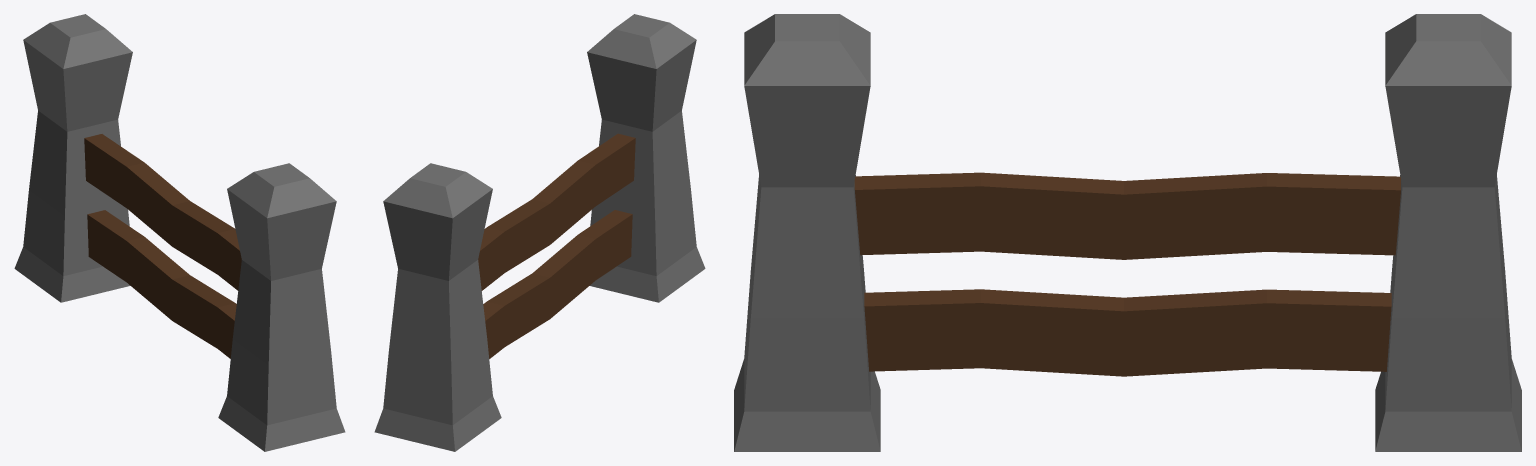
The model's file is fencefull.fbx.
3 renders of one model, left to right at view 1: azimuth 30°, elevation 25°; view 2: azimuth 150°, elevation 25°; view 3: azimuth 270°, elevation 25°, orthographic. The views are drawn at different scales.
Parts seen in each view (by area): view 1: Cube.001; view 2: Cube.001; view 3: Cube.001.
Part boxes in pixels (<box>): Cube.001: <box>14,14,345,451</box>; Cube.001: <box>374,14,705,451</box>; Cube.001: <box>734,14,1521,451</box>.
Bounding box in the file's own units: 20.69 × 61.25 × 111.
